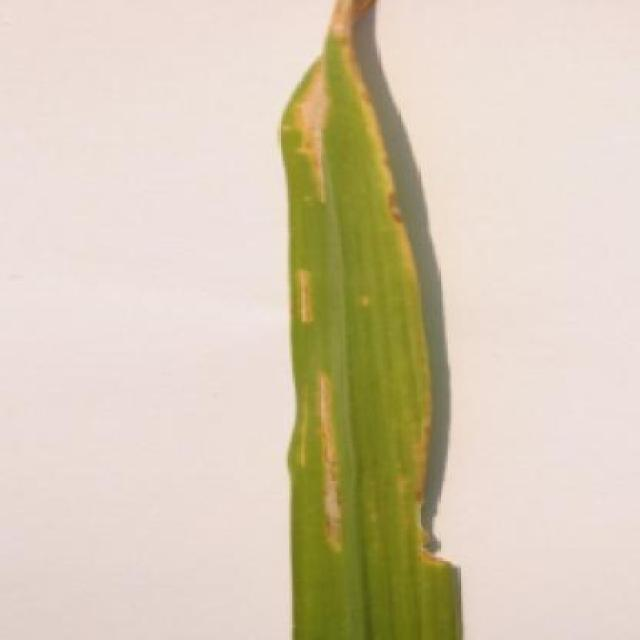Brown_Spot: (273, 0, 473, 640)
